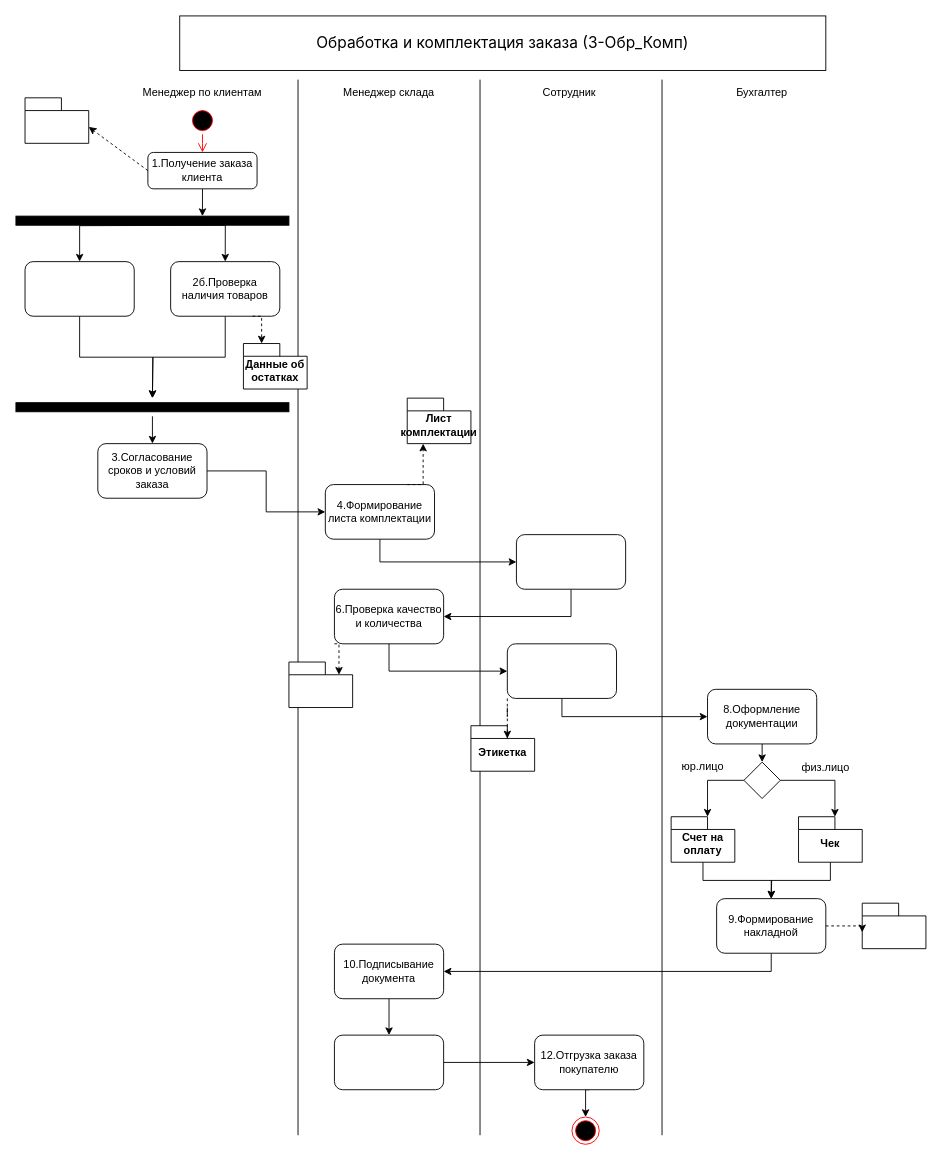
Some shapes in this 942 by 1160 pixel diagram are drawn without their labels. The centre of each missing label's shape, as x and y in pixels:
11.Передача документов: pixel 389 1062
2а.Запрос данных об остатках: pixel 79 288
5.Сбор товаров со складских мест: pixel 571 561
7.Маркировка и упаковка: pixel 561 670
Акт проверки качества: pixel 320 684
Заказ клиента: pixel 56 120
Накладная: pixel 893 925
